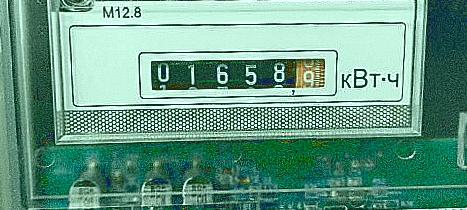0: (156, 60, 170, 83)
1: (186, 62, 197, 85)
5: (243, 62, 258, 85)
6: (214, 61, 229, 84)
8: (271, 60, 286, 82)
9: (299, 68, 314, 89)
screen: (132, 40, 345, 106)
